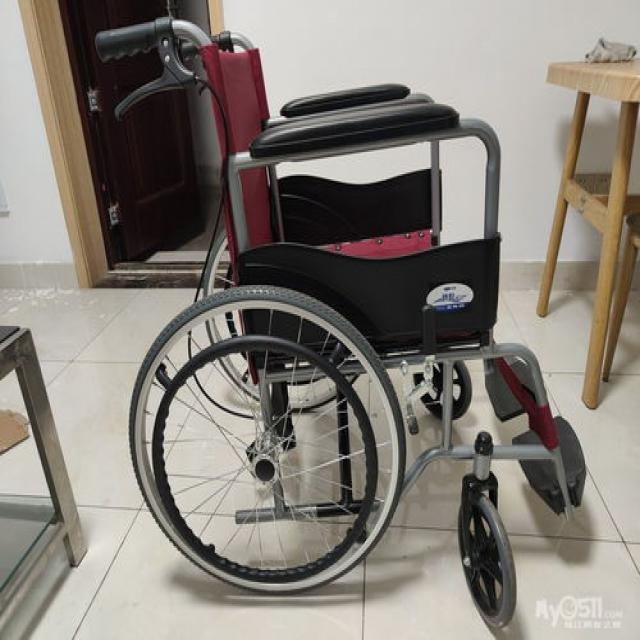wheelchair: (82, 16, 596, 632)
